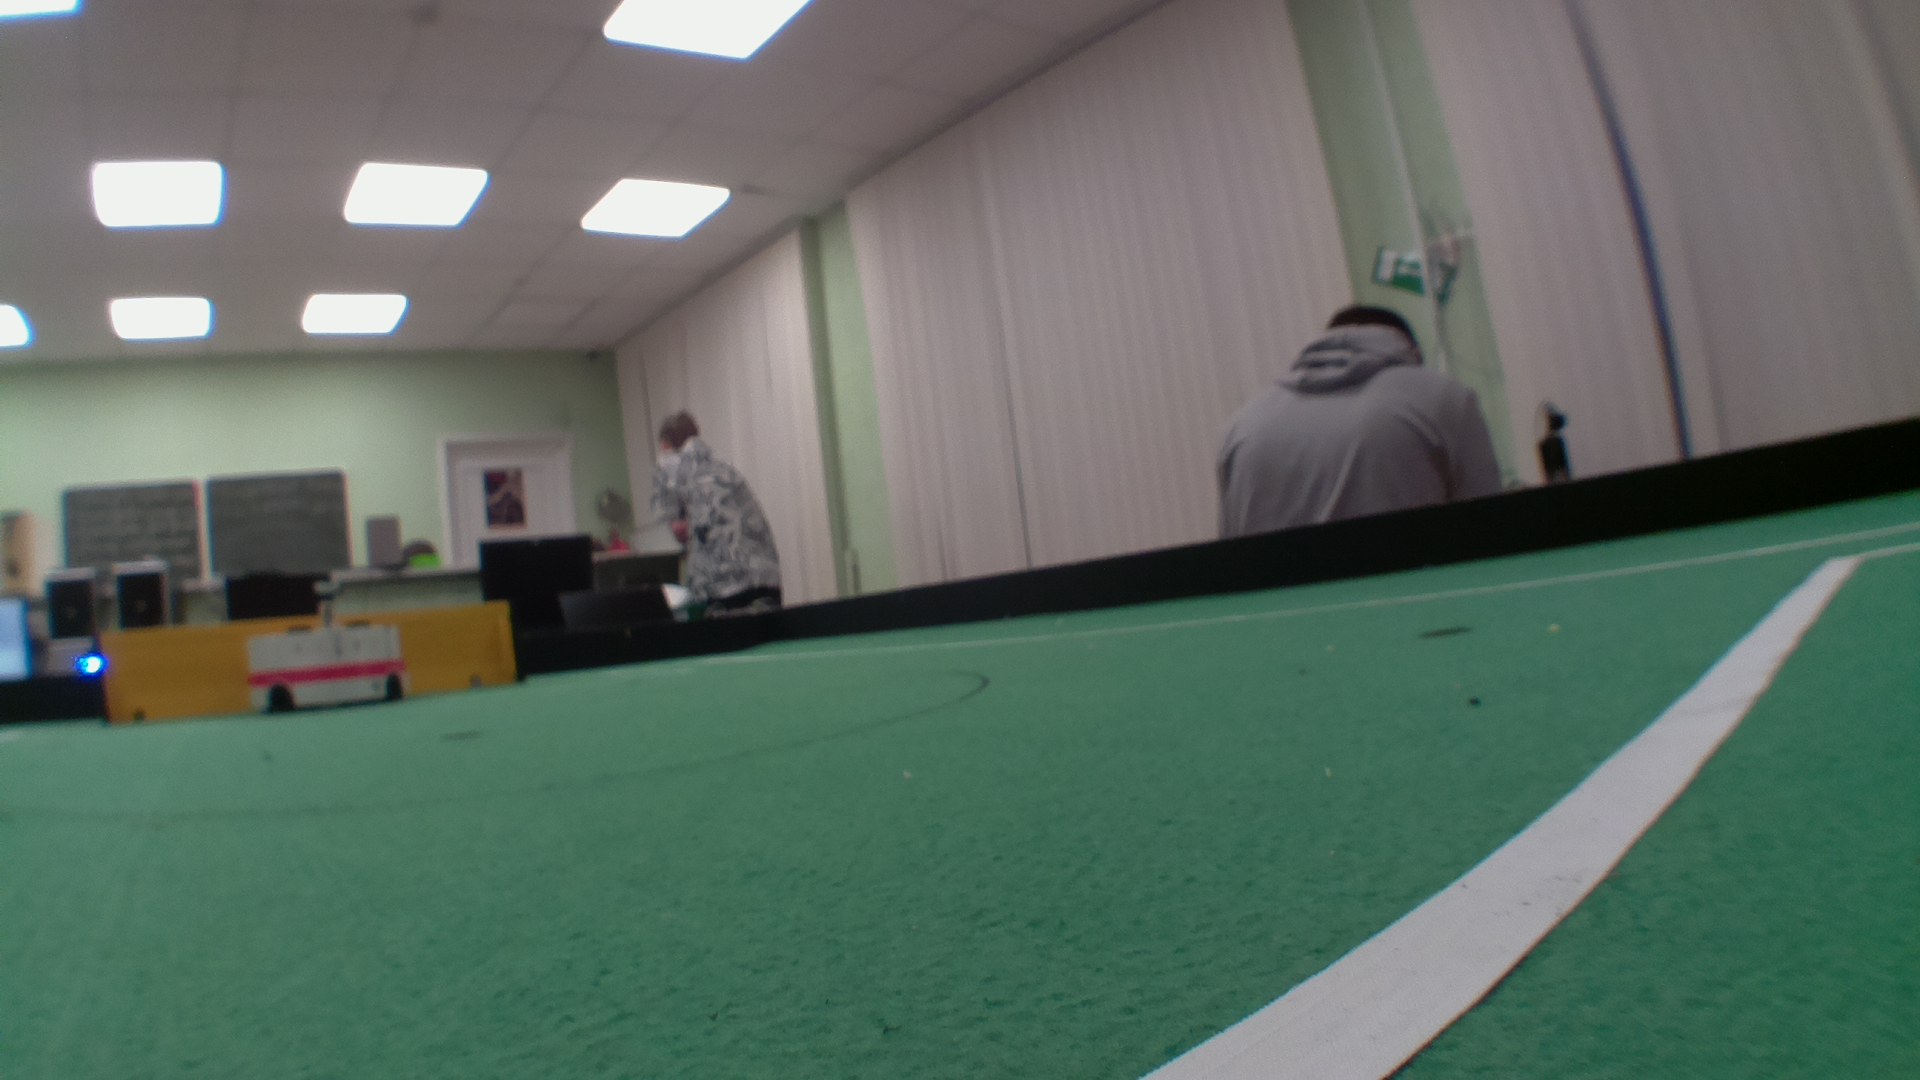YellowGoal: (104, 625, 514, 702)
